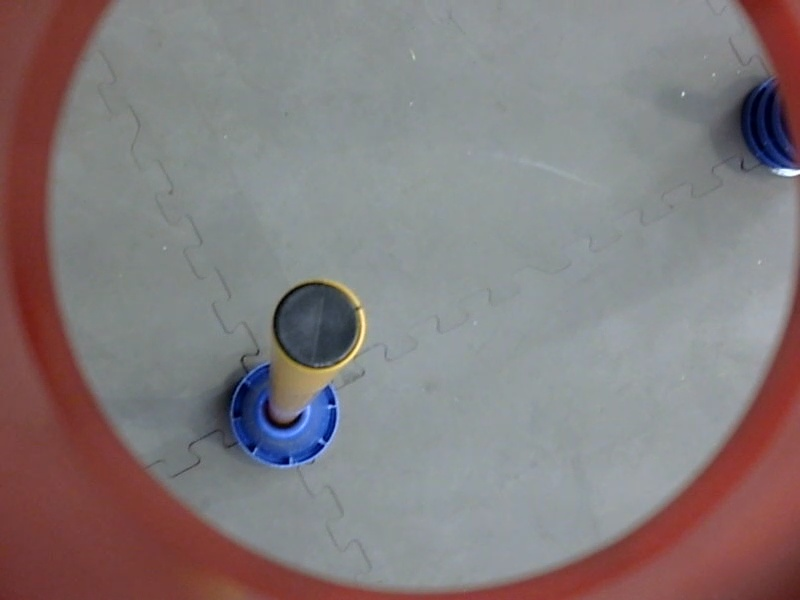tip: (269, 276, 369, 377)
